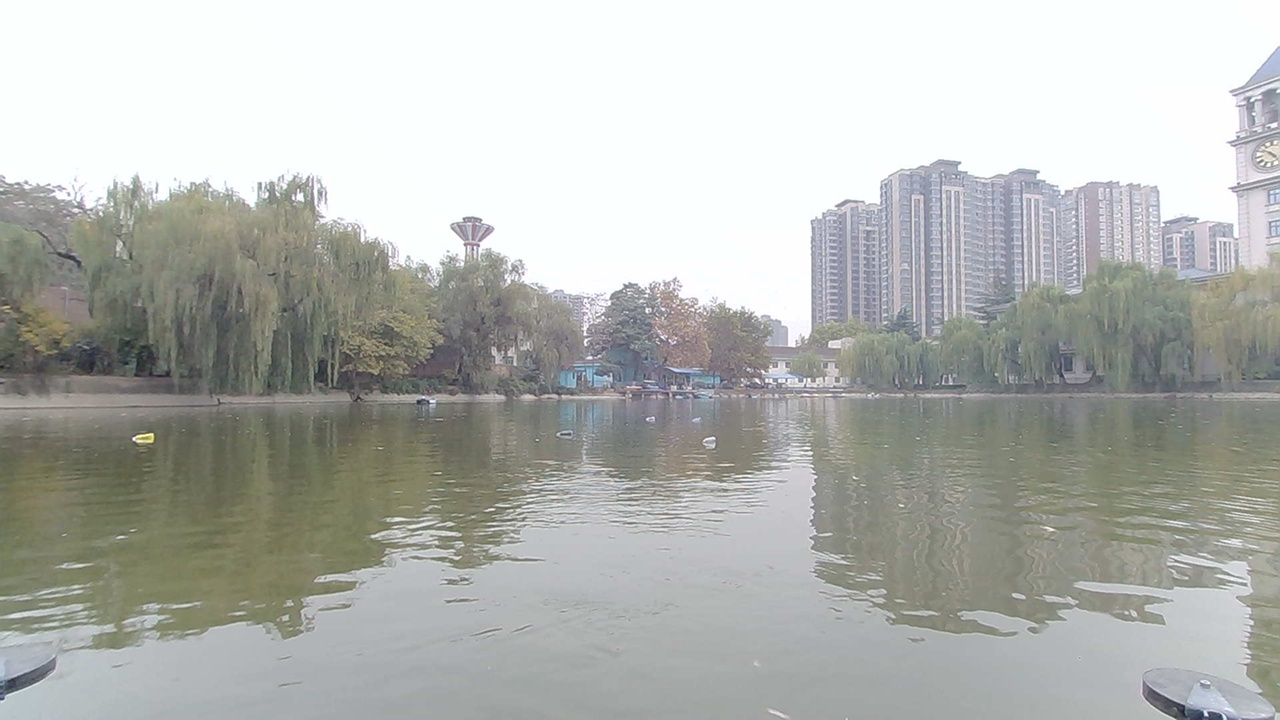bottle: (122, 419, 170, 451), (557, 418, 587, 440), (697, 429, 727, 450), (686, 402, 719, 419), (638, 407, 660, 426)
